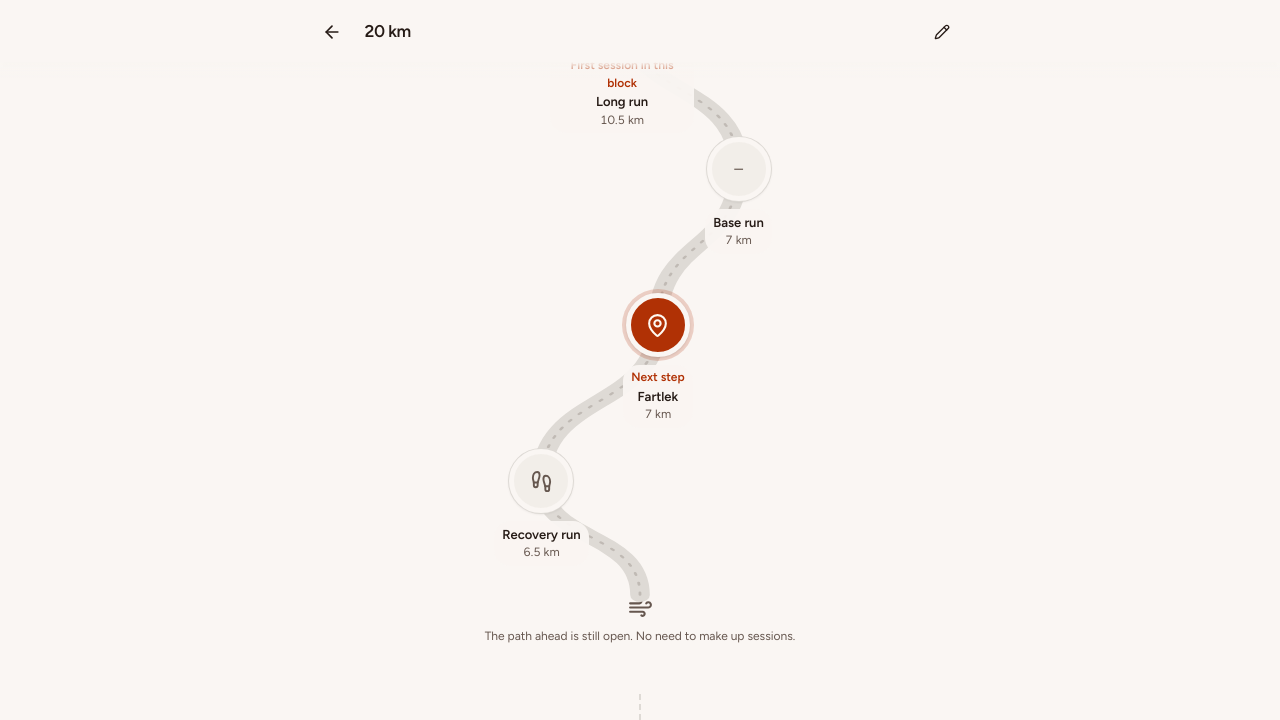
it: opens the next step details from the journey
(page scrolled)
Step 1. Click the button "Next step Fartlek 7 km" → (658, 360), box x1=586 y1=293 x2=730 y2=428
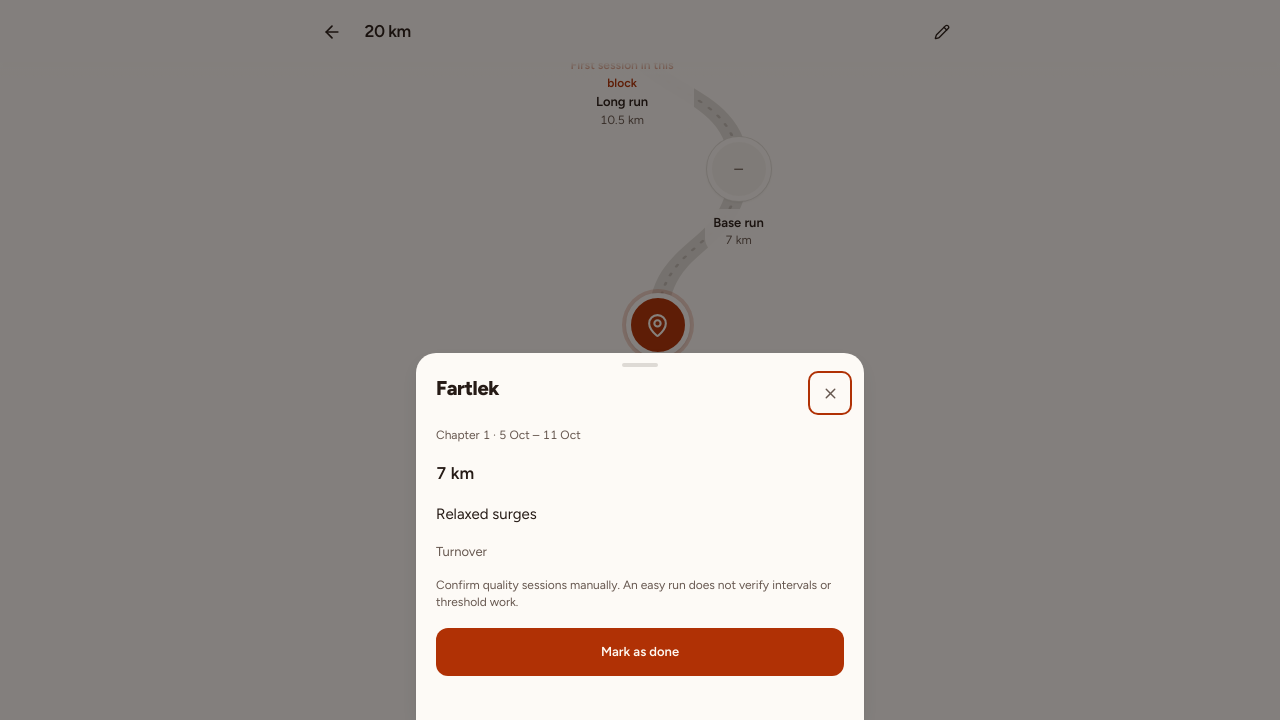
expect the dialog is shown: met, box x1=416 y1=353 x2=864 y2=719
expect the text "Relaxed surges" is shown: met, box x1=436 y1=505 x2=537 y2=523
expect the text "Turnover" is shown: met, box x1=436 y1=544 x2=487 y2=559
